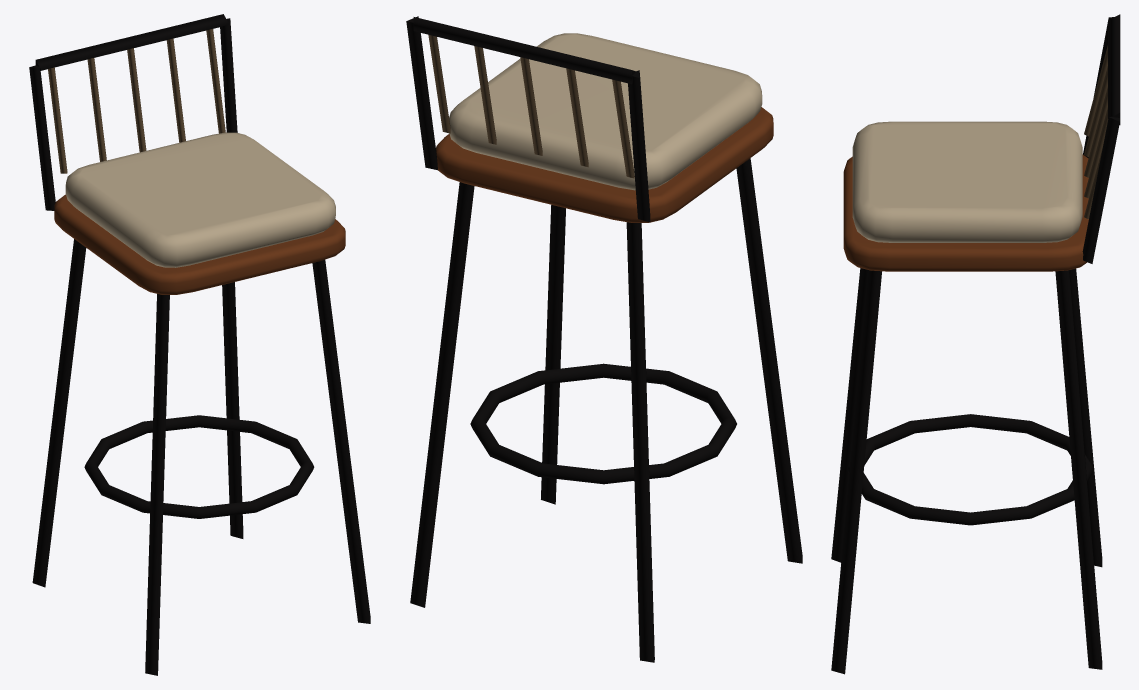
The model's file is bar-stool-lod2.glb.
3 renders of one model, left to right at view 1: azimuth 30°, elevation 25°; view 2: azimuth 150°, elevation 25°; view 3: azimuth 270°, elevation 25°, orthographic. The views are drawn at different scales.
Parts seen in each view (by area): view 1: Powder-coated bronze aluminium, Oatmeal performance fabric, Oiled teak, Woven taupe rope; view 2: Powder-coated bronze aluminium, Oatmeal performance fabric, Oiled teak, Woven taupe rope; view 3: Oatmeal performance fabric, Powder-coated bronze aluminium, Oiled teak, Woven taupe rope.
Part boxes in pixels (x1,y1,x2,y2): Powder-coated bronze aluminium: [29, 14, 370, 675]; Oatmeal performance fabric: [65, 132, 335, 267]; Oiled teak: [54, 194, 345, 294]; Woven taupe rope: [48, 29, 225, 173]; Powder-coated bronze aluminium: [406, 16, 802, 662]; Oatmeal performance fabric: [449, 33, 762, 190]; Oiled teak: [436, 107, 773, 222]; Woven taupe rope: [428, 34, 634, 178]; Oatmeal performance fabric: [852, 121, 1082, 242]; Powder-coated bronze aluminium: [831, 14, 1120, 674]; Oiled teak: [843, 154, 1088, 271]; Woven taupe rope: [1084, 45, 1108, 219].
Bounding box in the file's own units: 0.4658 × 1.01 × 0.4864.
